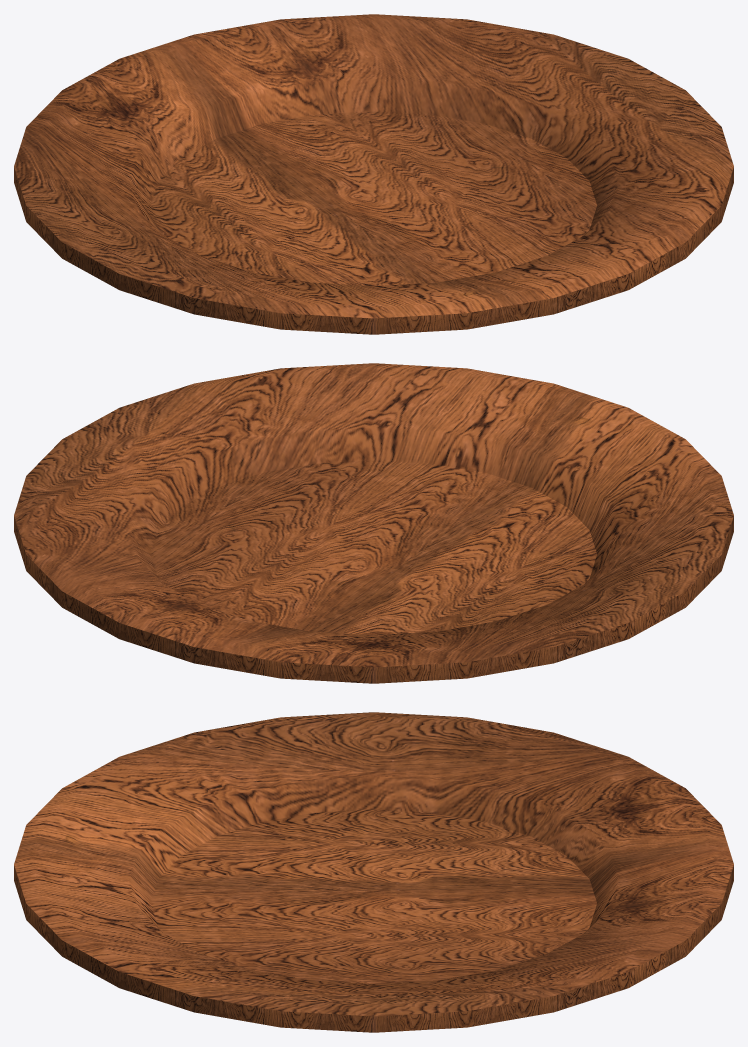
File: mm8_deco_woodplate.glb
3 views of the same model, one above another, from view 1: azimuth 30°, elevation 25°; view 2: azimuth 150°, elevation 25°; view 3: azimuth 270°, elevation 25° (orthographic).
Visible parts, largest first — view 1: Woodplate; view 2: Woodplate; view 3: Woodplate.
Boxes of the visible parts, x1,y1,x2,y2 form: Woodplate: (14, 14, 733, 334); Woodplate: (14, 363, 733, 683); Woodplate: (14, 712, 733, 1032).
Size of the model in its own units: 0.24 by 0.0216 by 0.24.
Materials: 1 (1 with a texture image).
